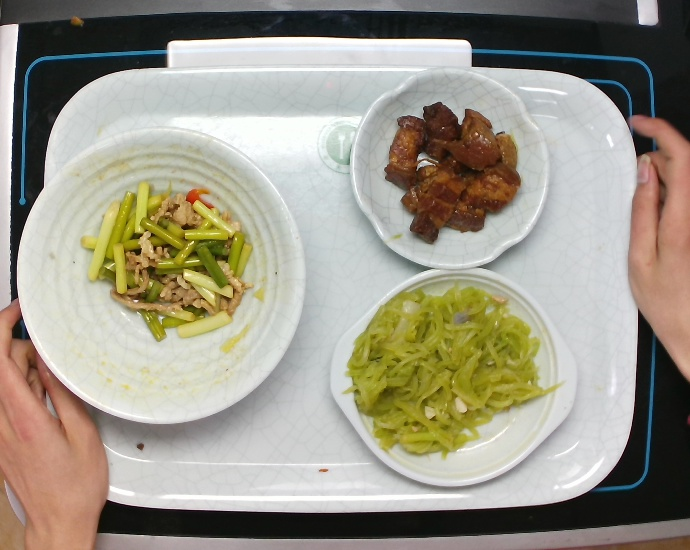JYsf-Ao_Yuan_Wan: (345, 64, 557, 279)
JYsf-Shuang_Er_Pan: (326, 263, 582, 490)
JYsf-Xiao_Tang_Wan: (12, 123, 311, 429)
